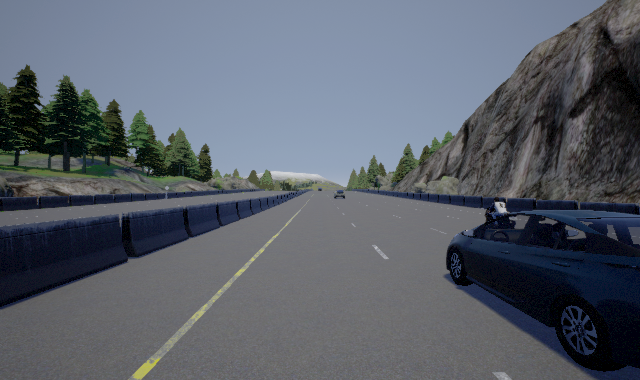motobike: (483, 198, 516, 232)
vehicle: (446, 207, 640, 372), (331, 189, 345, 199)
